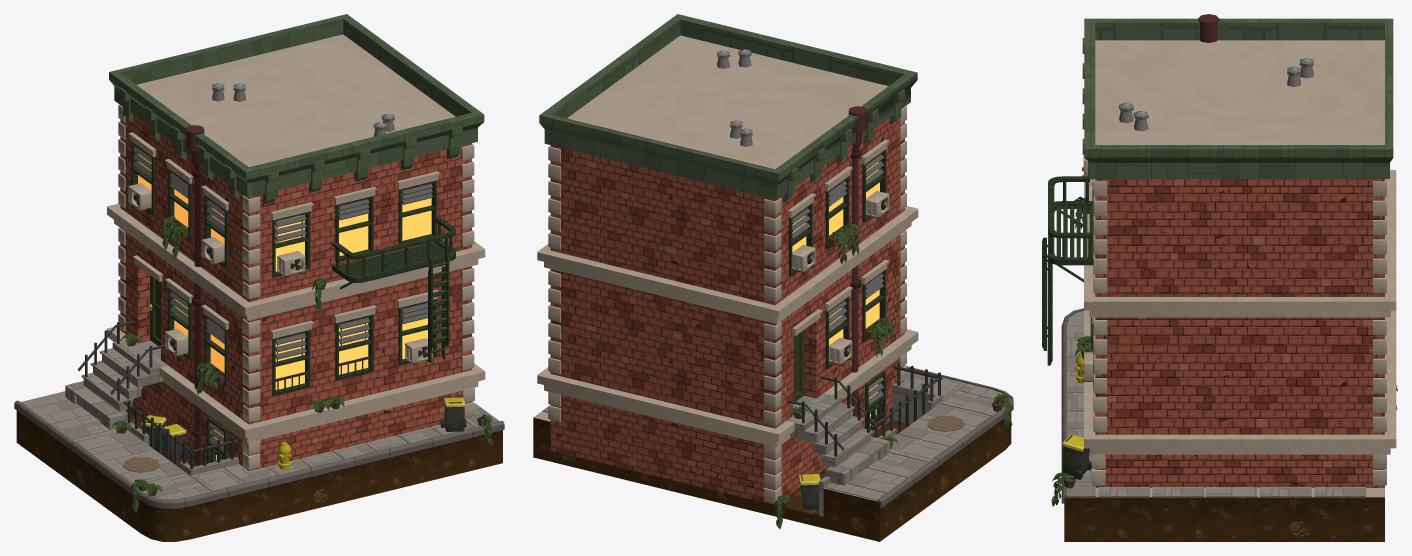
The picture shows the model from 3 angles, left to right: view 1: azimuth 30°, elevation 25°; view 2: azimuth 150°, elevation 25°; view 3: azimuth 270°, elevation 25°; orthographic projection. The views are drawn at different scales.
Parts seen in each view (by area): view 1: Box002, Object003_Material #3_0, Box001, Object010_trimsheet1_0, Object002_trimsheet1_0, Shape001, window001, window002, Cylinder003, window_Material #3_0, Box017, Box020 (+34 smaller); view 2: Box002, Object003_Material #3_0, Box001, Object002_trimsheet1_0, Object010_trimsheet1_0, Cylinder003, window_Material #3_0, Shape001, Box059, Box060, Box016, Box003 (+21 smaller); view 3: Box002, Object003_Material #3_0, Box001, Object010_trimsheet1_0, Object002_trimsheet1_0, Box062, Box063, Box204, Box205, Box065, Shape001, Box066 (+12 smaller).
Boxes of the visible parts, box(x1,y1,x2,y2) form: Box002: box(120, 34, 471, 470); Object003_Material #3_0: box(109, 14, 484, 197); Box001: box(16, 410, 502, 541); Object010_trimsheet1_0: box(107, 327, 485, 442); Object002_trimsheet1_0: box(107, 203, 485, 320); Shape001: box(14, 400, 504, 508); window001: box(272, 180, 436, 277); window002: box(272, 299, 436, 396); Cylinder003: box(186, 125, 204, 465); window_Material #3_0: box(131, 142, 228, 267); Box017: box(263, 127, 462, 203); Box020: box(242, 195, 260, 298); Box002: box(550, 35, 904, 504); Object003_Material #3_0: box(539, 14, 917, 200); Box001: box(533, 390, 1011, 541); Object002_trimsheet1_0: box(537, 206, 918, 323); Object010_trimsheet1_0: box(537, 329, 918, 447); Cylinder003: box(848, 106, 866, 416); window_Material #3_0: box(789, 149, 885, 276); Shape001: box(877, 366, 1013, 507); Box059: box(764, 322, 781, 426); Box060: box(764, 197, 781, 302); Box016: box(783, 89, 905, 203); Box003: box(825, 436, 889, 485); Box002: box(1095, 40, 1384, 487); Object003_Material #3_0: box(1084, 18, 1393, 178); Box001: box(1064, 488, 1384, 541); Object010_trimsheet1_0: box(1084, 310, 1396, 454); Object002_trimsheet1_0: box(1084, 170, 1396, 317); Box062: box(1093, 317, 1107, 431); Box063: box(1093, 179, 1107, 293); Box204: box(1373, 179, 1386, 293); Box205: box(1373, 317, 1386, 431); Box065: box(1056, 205, 1093, 257); Shape001: box(1061, 308, 1083, 503); Box066: box(1048, 176, 1093, 238).
Size of the model in its own units: 1.25 by 1.2 by 0.9698.
Materials: 3 (3 with a texture image).
